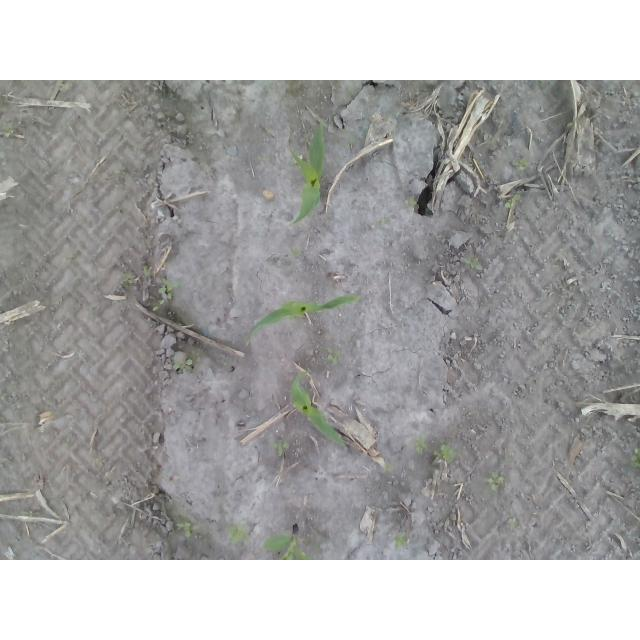Maize: (247, 294, 362, 343), (290, 371, 347, 448), (286, 122, 326, 227), (263, 522, 310, 560)
Weeds: (159, 278, 180, 300), (433, 443, 456, 463), (229, 524, 251, 544), (408, 434, 428, 454), (484, 472, 505, 491), (177, 522, 199, 538), (175, 355, 194, 373), (327, 347, 342, 365), (393, 531, 407, 550), (272, 440, 288, 456), (629, 447, 640, 469), (505, 194, 520, 210), (121, 272, 136, 288), (465, 258, 483, 271), (512, 158, 528, 171), (404, 194, 416, 210), (374, 217, 390, 228), (0, 123, 12, 137), (152, 300, 164, 311), (114, 164, 126, 174), (561, 120, 575, 128), (291, 247, 302, 257), (508, 518, 516, 530), (20, 510, 33, 517), (383, 464, 393, 473), (505, 454, 515, 463), (59, 82, 70, 90), (142, 265, 150, 275), (349, 138, 356, 146), (0, 387, 4, 401), (0, 150, 6, 159), (258, 156, 266, 162)
